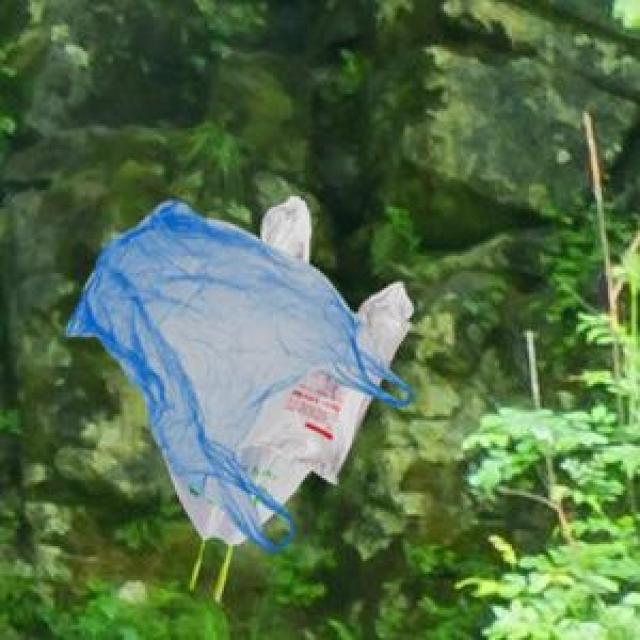waste: (68, 198, 412, 551)
